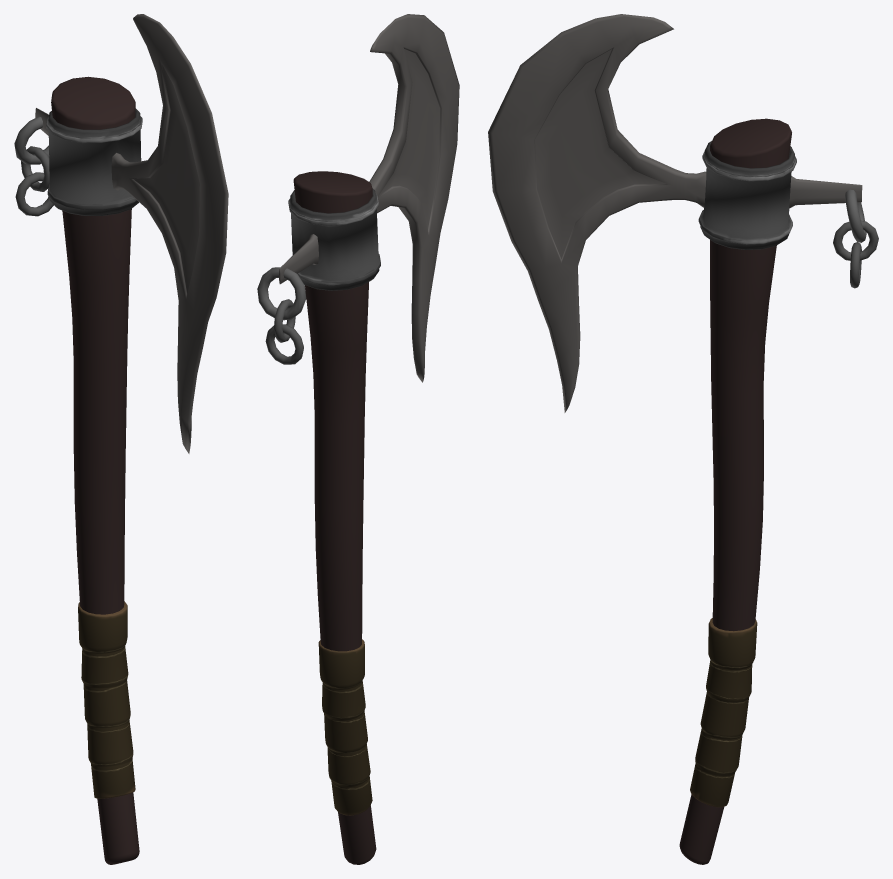
The model's file is Balta_02.fbx.
3 views of the same model, side by side, from view 1: azimuth 30°, elevation 25°; view 2: azimuth 150°, elevation 25°; view 3: azimuth 270°, elevation 25° (orthographic). The views are drawn at different scales.
Visible parts, largest first — view 1: Balta_02; view 2: Balta_02; view 3: Balta_02.
Boxes of the visible parts, x1,y1,x2,y2 form: Balta_02: [14, 14, 228, 864]; Balta_02: [257, 14, 459, 864]; Balta_02: [488, 14, 878, 864].
Bounding box in the file's own units: 20.65 × 203 × 84.65.
